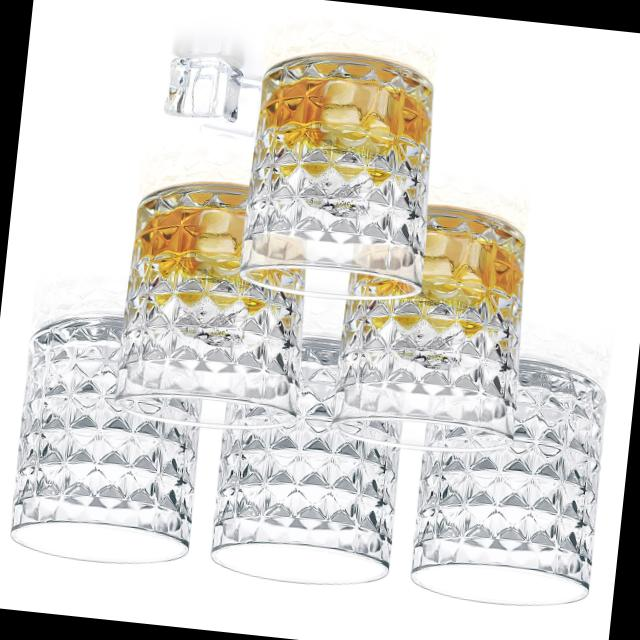glass: (315, 163, 548, 452), (201, 314, 415, 614), (393, 335, 621, 613), (0, 284, 221, 568), (106, 150, 316, 440), (221, 36, 449, 303)
